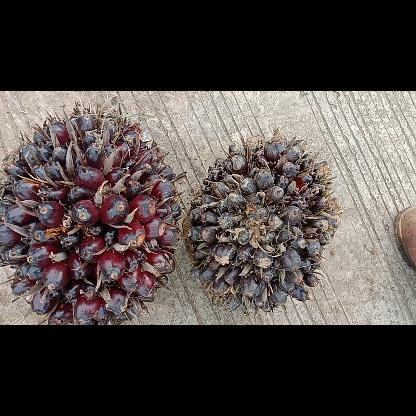TBS mentah: (0, 104, 183, 324), (182, 132, 344, 314)
